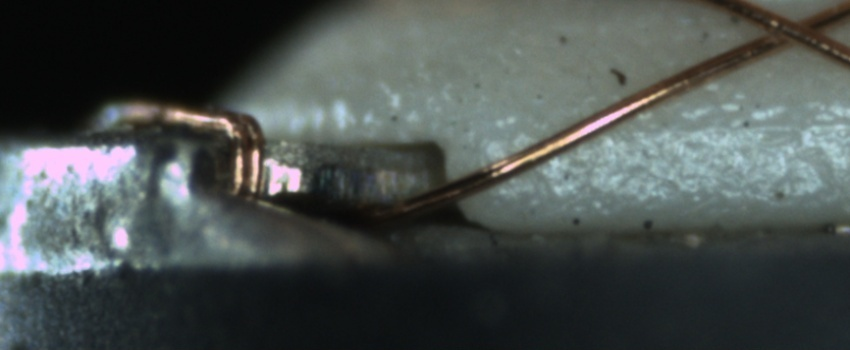CL: (747, 2, 841, 55)
DL: (614, 95, 849, 159)
TE: (100, 99, 274, 217)
